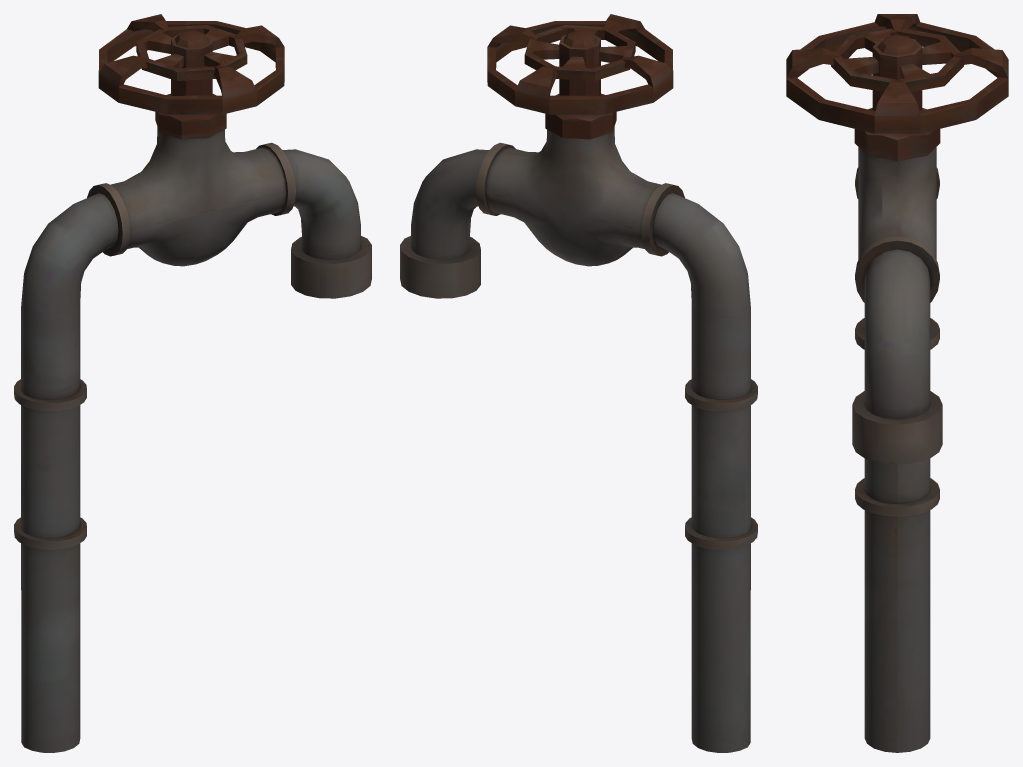
3 renders of one model, left to right at view 1: azimuth 30°, elevation 25°; view 2: azimuth 150°, elevation 25°; view 3: azimuth 270°, elevation 25°, orthographic. The views are drawn at different scales.
Visible parts, largest first — view 1: body0_model0_lod0_mesh0; view 2: body0_model0_lod0_mesh0; view 3: body0_model0_lod0_mesh0.
Boxes of the visible parts, bbox=[...] form: body0_model0_lod0_mesh0: bbox=[14, 14, 371, 752]; body0_model0_lod0_mesh0: bbox=[400, 14, 757, 752]; body0_model0_lod0_mesh0: bbox=[786, 14, 1008, 752].
Bounding box in the file's own units: 20.95 × 38.76 × 9.99.
Materials: 1 (1 with a texture image).
